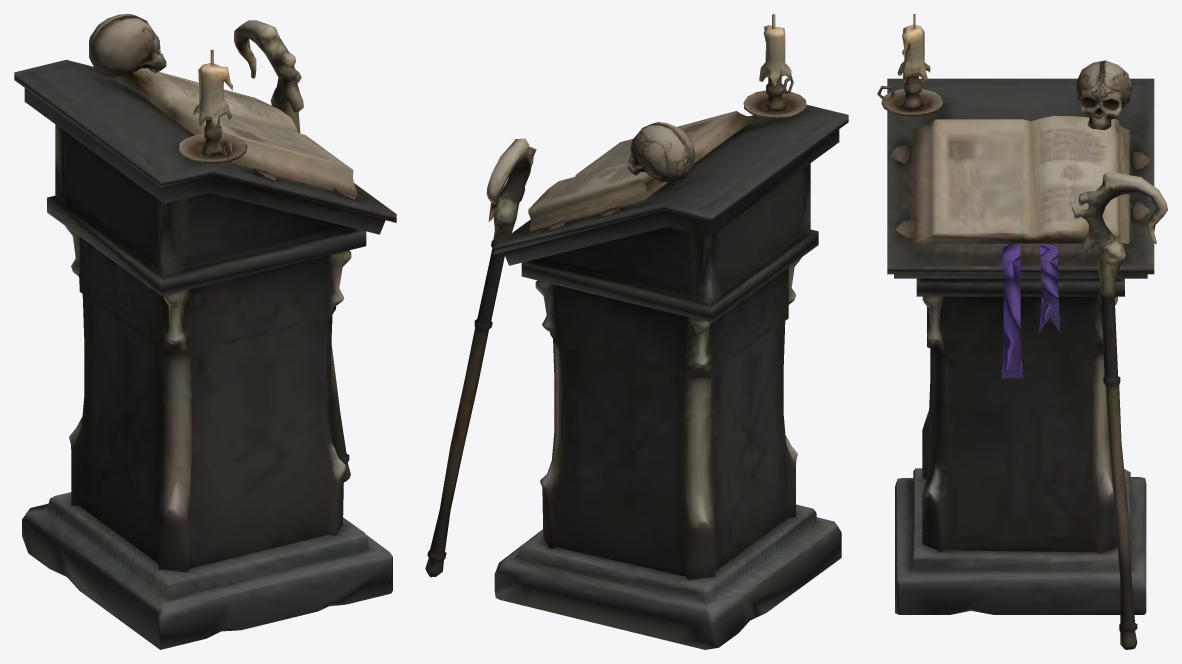
Rendered from covenant_lectern.glb.
The picture shows the model from 3 angles, left to right: view 1: azimuth 30°, elevation 25°; view 2: azimuth 150°, elevation 25°; view 3: azimuth 270°, elevation 25°; orthographic projection. The views are drawn at different scales.
Parts seen in each view (by area): view 1: tripo_node_1849474b-ce49-4591-bd55-7959840e22b7; view 2: tripo_node_1849474b-ce49-4591-bd55-7959840e22b7; view 3: tripo_node_1849474b-ce49-4591-bd55-7959840e22b7.
Boxes of the visible parts, x1=… form: tripo_node_1849474b-ce49-4591-bd55-7959840e22b7: x1=14, y1=14, x2=396, y2=649; tripo_node_1849474b-ce49-4591-bd55-7959840e22b7: x1=425, y1=14, x2=848, y2=649; tripo_node_1849474b-ce49-4591-bd55-7959840e22b7: x1=877, y1=14, x2=1167, y2=649.
Size of the model in its own units: 0.5801 by 0.998 by 0.502.
Materials: 1 (1 with a texture image).
